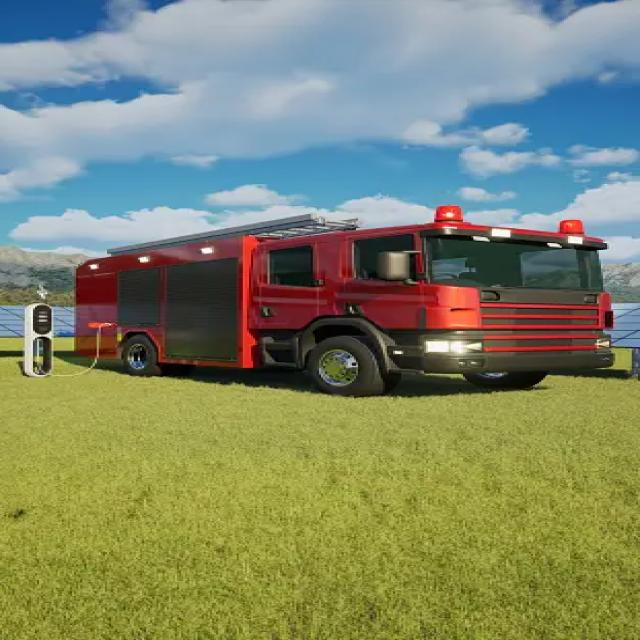emergency: (75, 206, 613, 394)
